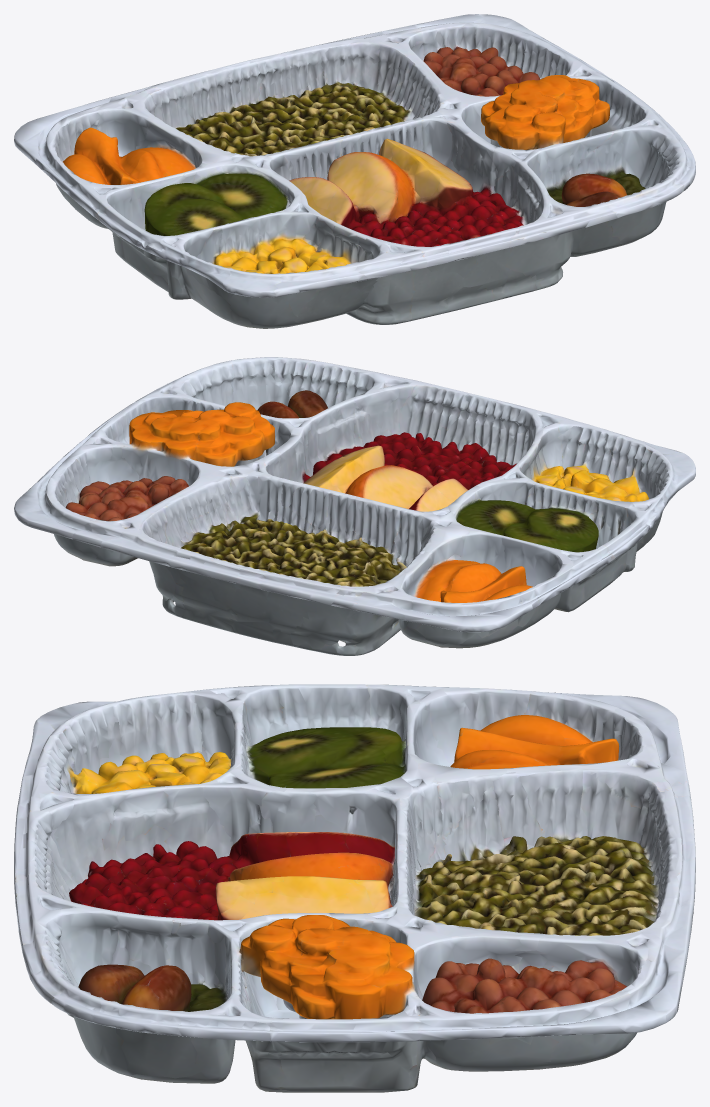
The model's file is Premium_veg.glb.
3 renders of one model, top to bottom at view 1: azimuth 30°, elevation 25°; view 2: azimuth 150°, elevation 25°; view 3: azimuth 270°, elevation 25°, orthographic. The views are drawn at different scales.
Parts seen in each view (by area): view 1: mesh_node; view 2: mesh_node; view 3: mesh_node.
Boxes of the visible parts, <box> form: mesh_node: <box>14,14,695,328</box>; mesh_node: <box>14,357,695,655</box>; mesh_node: <box>14,684,695,1092</box>.
Bounding box in the file's own units: 1.9 × 0.3377 × 1.57.
1 material, 1 textured.
